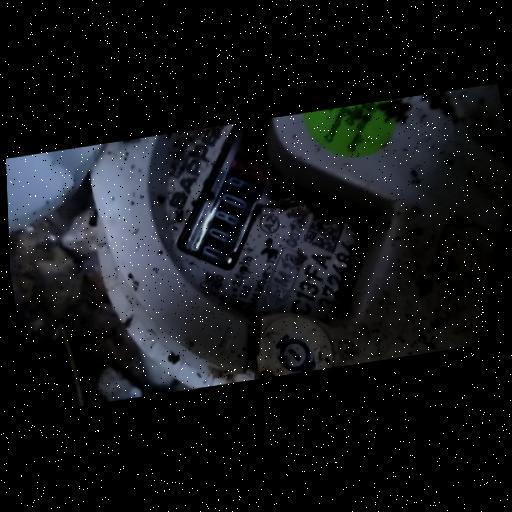0: (227, 153, 271, 189), (196, 236, 236, 271), (218, 186, 254, 219), (204, 219, 241, 250)
5: (231, 132, 280, 175)
8: (211, 203, 248, 234)
9: (223, 168, 261, 202)
border_water_meter_number: (160, 114, 316, 277)
